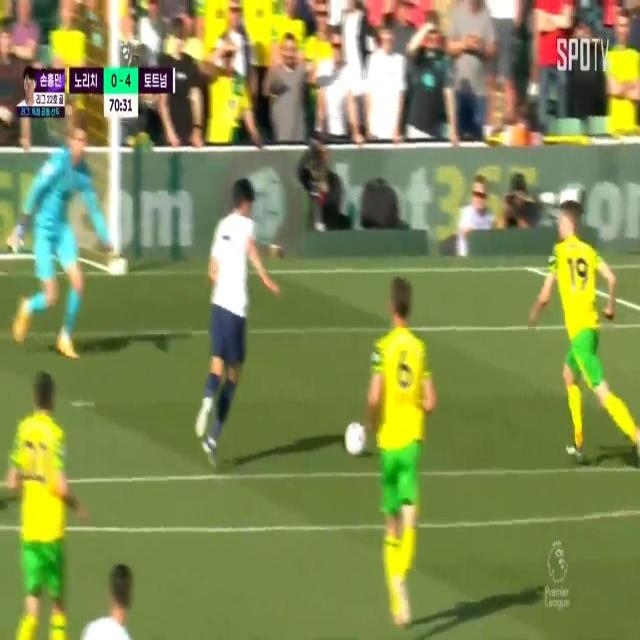ball: (339, 417, 369, 461)
player: (539, 198, 640, 460), (185, 182, 267, 464), (371, 273, 429, 627), (0, 364, 74, 640), (82, 560, 148, 640)
